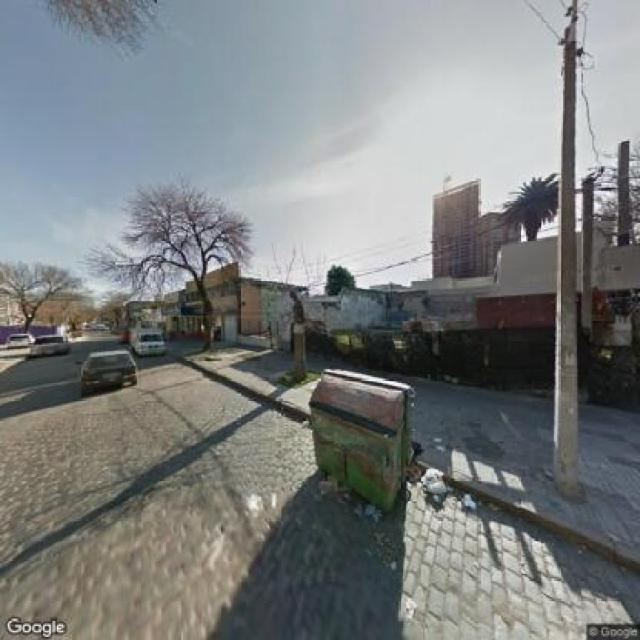garbage: (308, 459, 380, 526), (402, 426, 452, 504)
